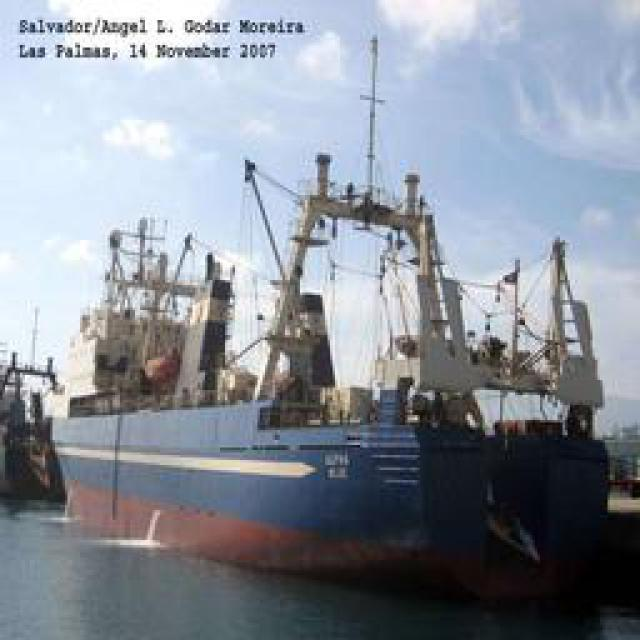Ship: (53, 28, 618, 576)
